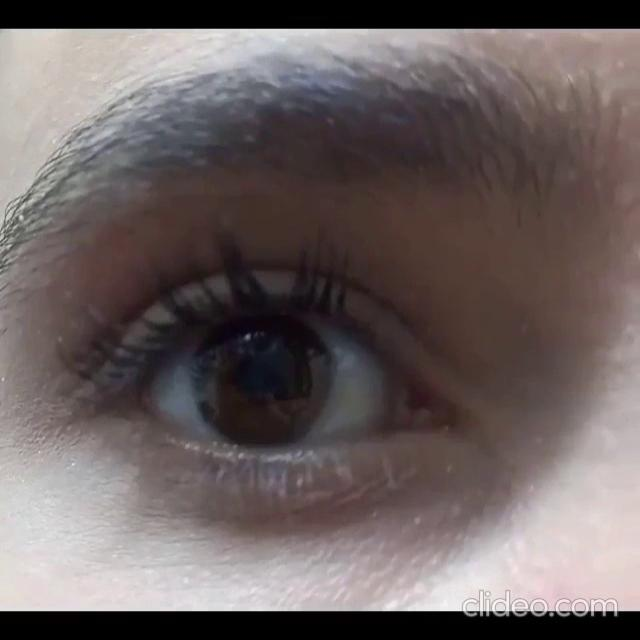iris: (192, 318, 335, 447)
pupille: (233, 349, 288, 396)
